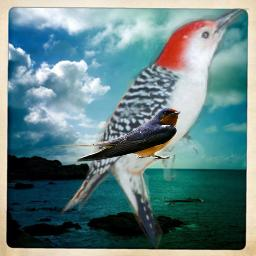Swallow: (51, 106, 181, 162)
Woodpecker: (59, 8, 249, 255)
